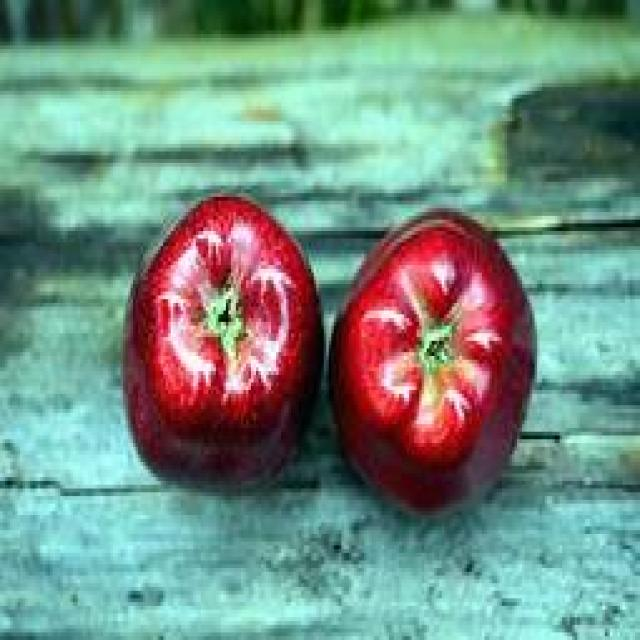apple: (328, 206, 536, 512), (124, 197, 325, 492)
